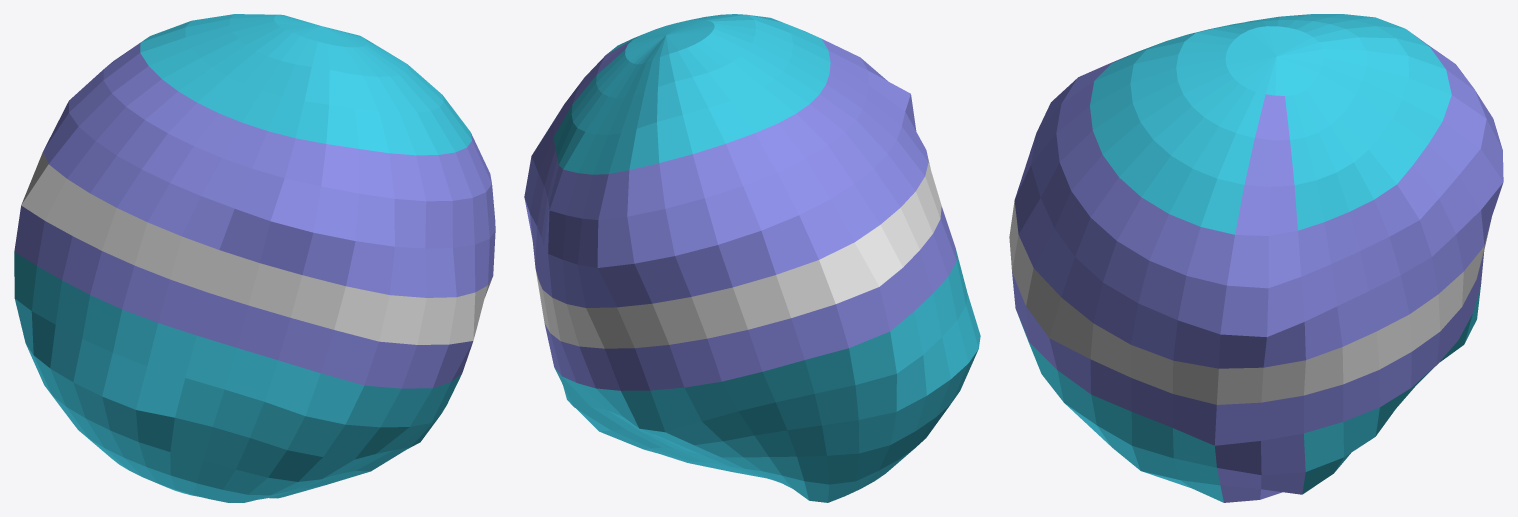
Rendered from energy orb.fbx.
3 renders of one model, left to right at view 1: azimuth 30°, elevation 25°; view 2: azimuth 150°, elevation 25°; view 3: azimuth 270°, elevation 25°, orthographic. The views are drawn at different scales.
Visible parts, largest first — view 1: Sphere.001; view 2: Sphere.001; view 3: Sphere.001.
Boxes of the visible parts, bbox=[...] form: Sphere.001: bbox=[14, 14, 495, 502]; Sphere.001: bbox=[524, 14, 980, 502]; Sphere.001: bbox=[1009, 14, 1503, 502].
Size of the model in its own units: 50080 by 49664 by 48653.
